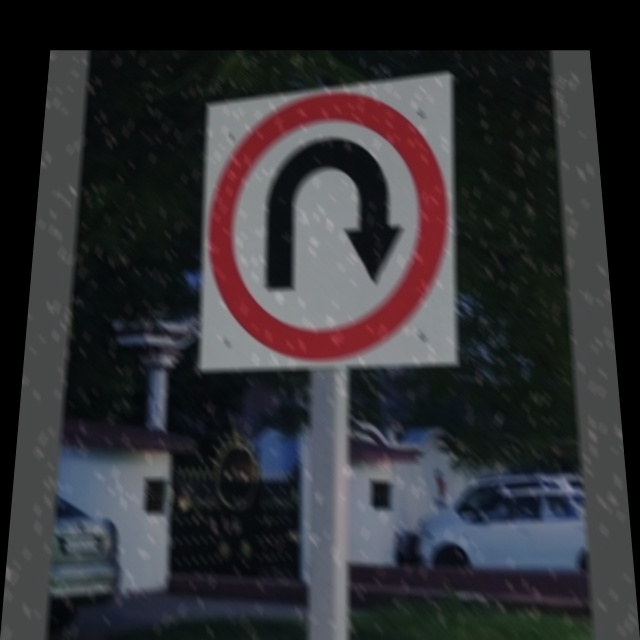U_Turn_Ahead: (194, 97, 456, 356)
